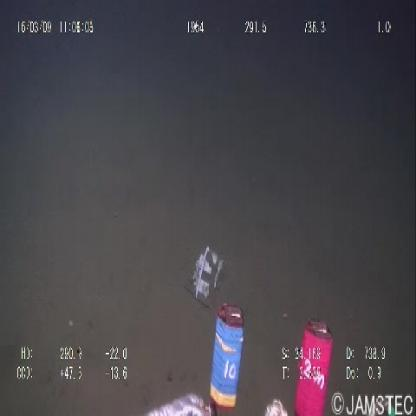Rov: (150, 299, 337, 416)
Rác: (186, 244, 230, 306)
